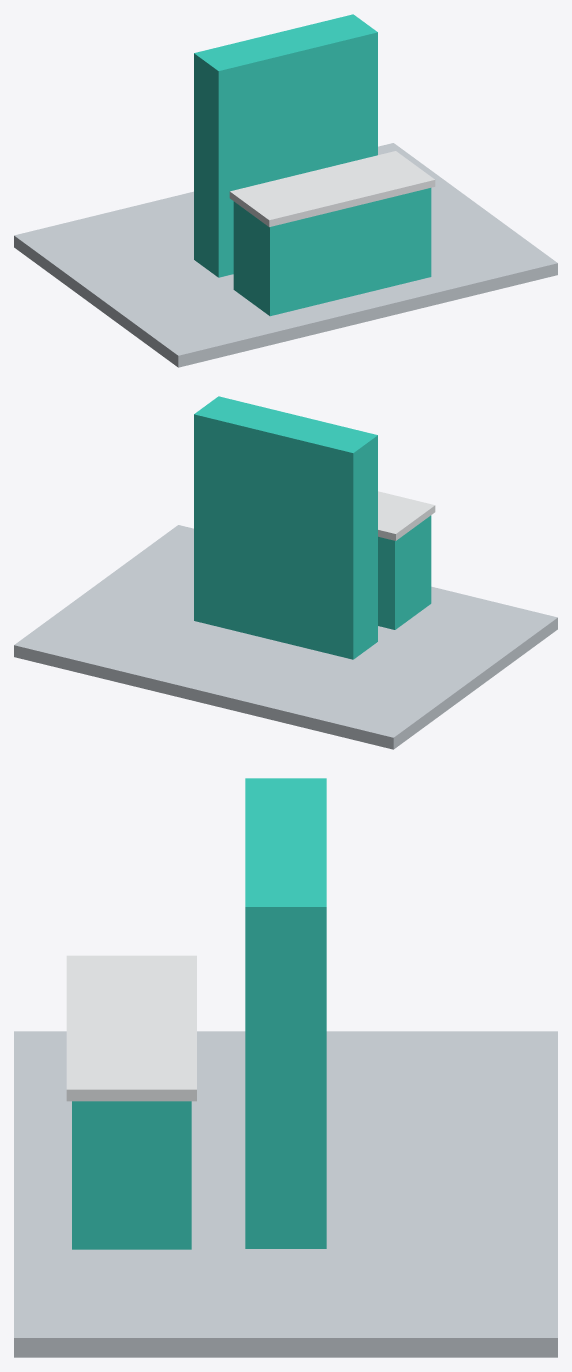
3 renders of one model, top to bottom at view 1: azimuth 30°, elevation 25°; view 2: azimuth 150°, elevation 25°; view 3: azimuth 270°, elevation 25°, orthographic. The views are drawn at different scales.
Visible parts, largest first — view 1: Exhibition Booth Concept; view 2: Exhibition Booth Concept; view 3: Exhibition Booth Concept.
Part boxes in pixels (left/top/right/bottom): Exhibition Booth Concept: left=14, top=14, right=557, bottom=367; Exhibition Booth Concept: left=14, top=396, right=557, bottom=749; Exhibition Booth Concept: left=14, top=778, right=557, bottom=1357.
Size of the model in its own units: 4 by 2.2 by 3.
